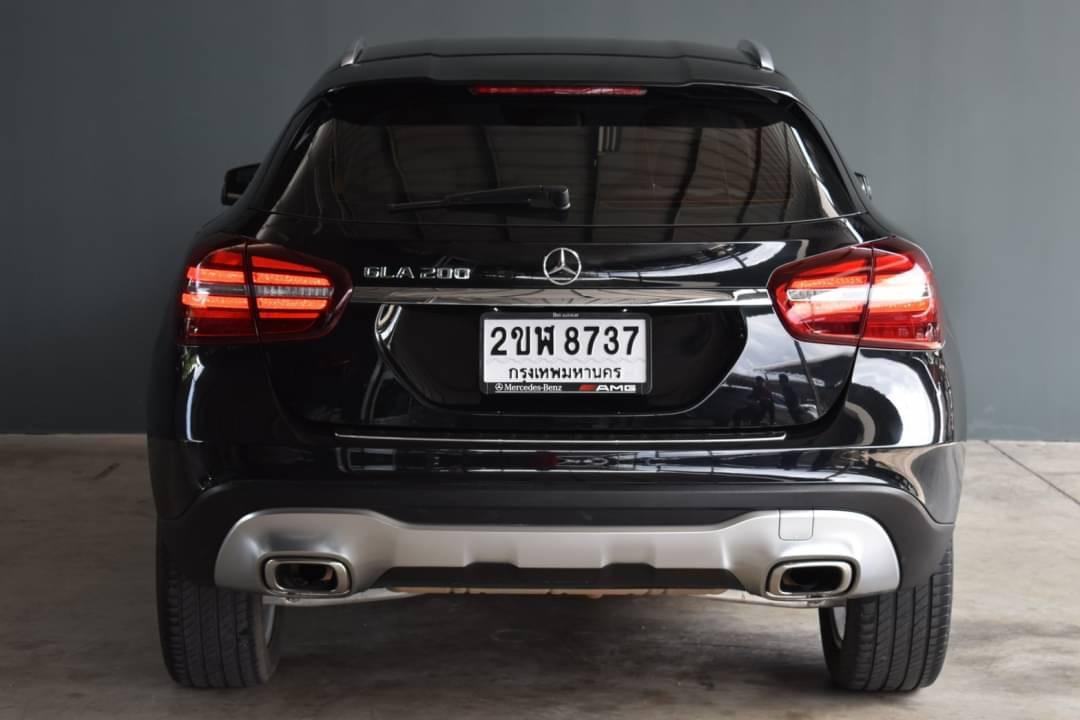license-plate: (477, 310, 653, 398)
